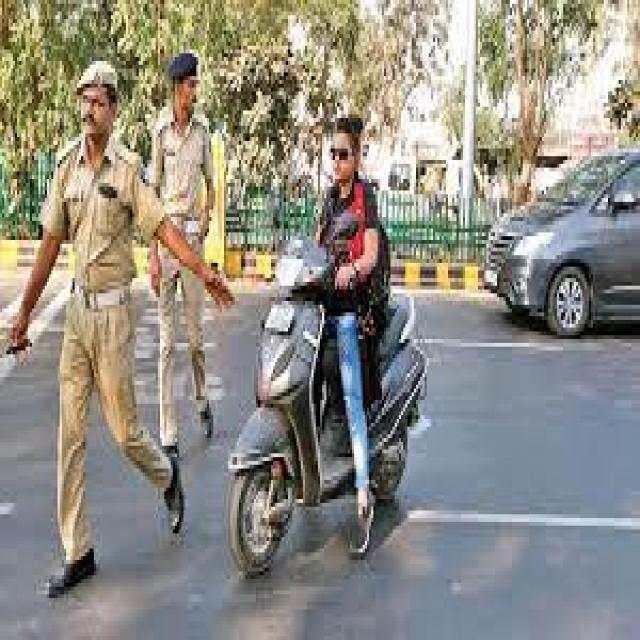without helmet: (321, 101, 373, 195)
